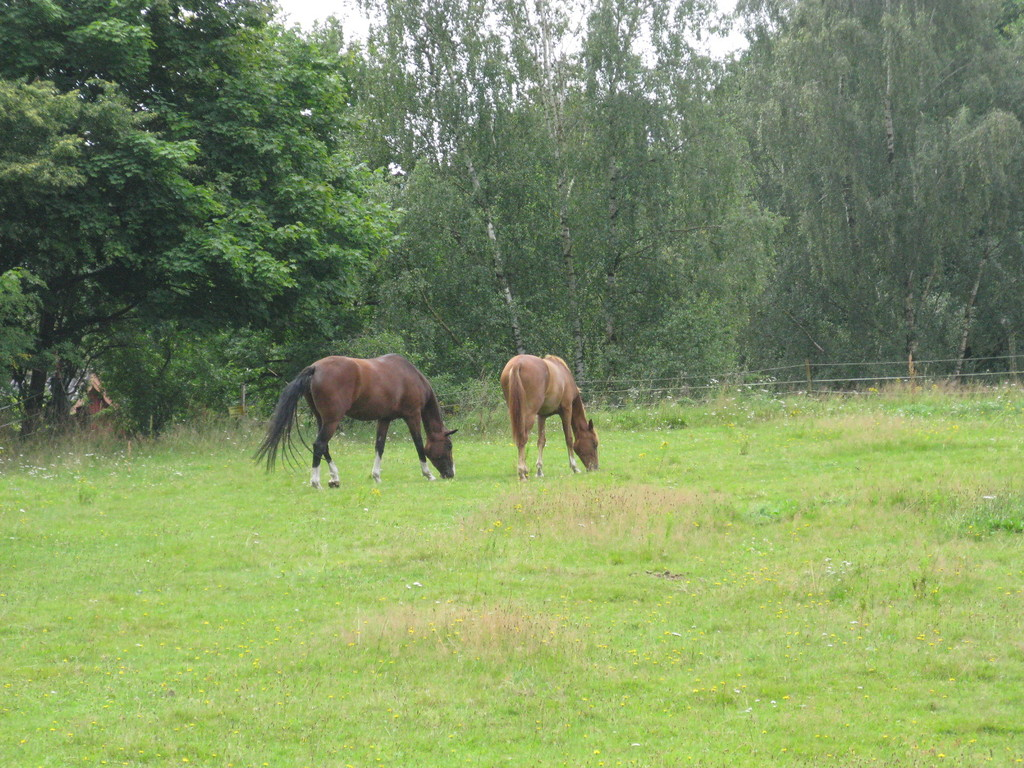horse: (249, 354, 460, 493), (498, 354, 599, 483)
